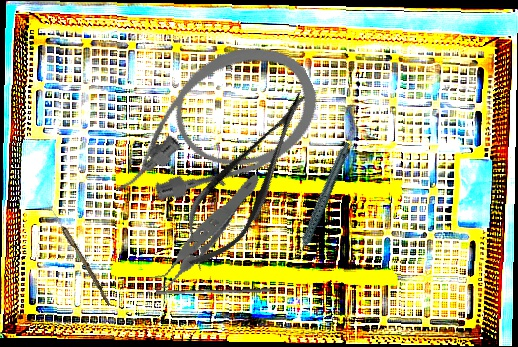Cannula: (84, 25, 335, 227)
Handpiece: (269, 141, 373, 262)
Micro Scissor: (162, 78, 332, 282)
Pusher: (155, 283, 272, 299)
Surgical Spoon: (43, 200, 114, 306)
Tissue Forceps: (121, 172, 282, 295)
